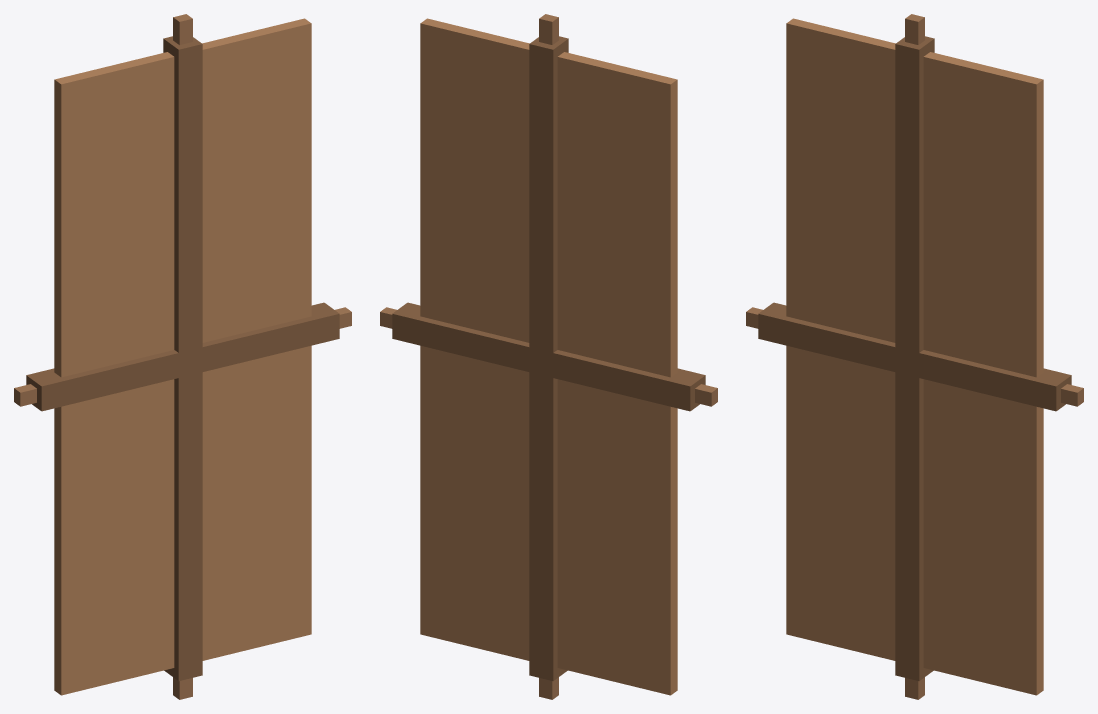
The model's file is door_model.glb.
3 renders of one model, left to right at view 1: azimuth 30°, elevation 25°; view 2: azimuth 150°, elevation 25°; view 3: azimuth 330°, elevation 25°, orthographic.
Parts seen in each view (by area): view 1: =>[0:1:1:4], =>[0:1:1:6], =>[0:1:1:10], =>[0:1:1:12], =>[0:1:1:16]; view 2: =>[0:1:1:4], =>[0:1:1:6], =>[0:1:1:10], =>[0:1:1:12], =>[0:1:1:16]; view 3: =>[0:1:1:4], =>[0:1:1:6], =>[0:1:1:10], =>[0:1:1:12], =>[0:1:1:16].
Part boxes in pixels (box(x1,y1,x2,y2)): =>[0:1:1:4]: box(54, 18, 311, 695); =>[0:1:1:6]: box(163, 36, 202, 680); =>[0:1:1:10]: box(26, 302, 339, 411); =>[0:1:1:12]: box(173, 14, 192, 699); =>[0:1:1:16]: box(14, 307, 351, 406); =>[0:1:1:4]: box(420, 18, 677, 695); =>[0:1:1:6]: box(529, 36, 568, 680); =>[0:1:1:10]: box(392, 302, 705, 411); =>[0:1:1:12]: box(539, 14, 558, 699); =>[0:1:1:16]: box(380, 307, 717, 406); =>[0:1:1:4]: box(786, 18, 1043, 695); =>[0:1:1:6]: box(895, 36, 934, 680); =>[0:1:1:10]: box(758, 302, 1071, 411); =>[0:1:1:12]: box(905, 14, 924, 699); =>[0:1:1:16]: box(746, 307, 1083, 406).
Bounding box in the file's own units: 1.19 × 2.33 × 0.096.
